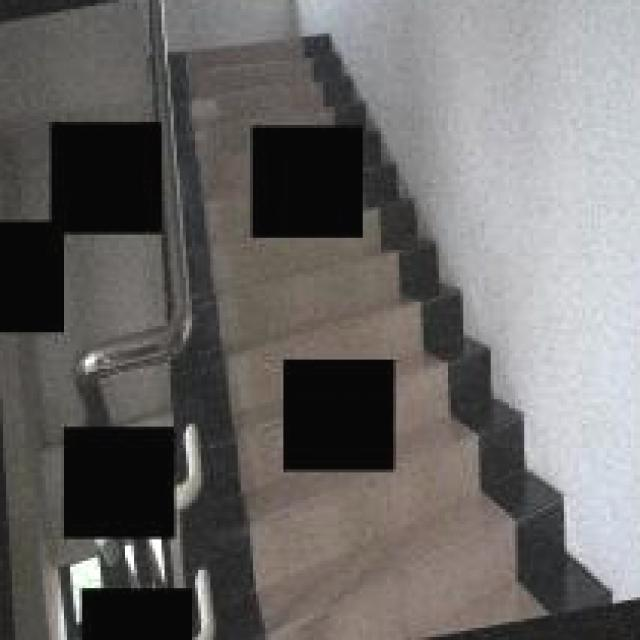upstair: (205, 242, 428, 355)
